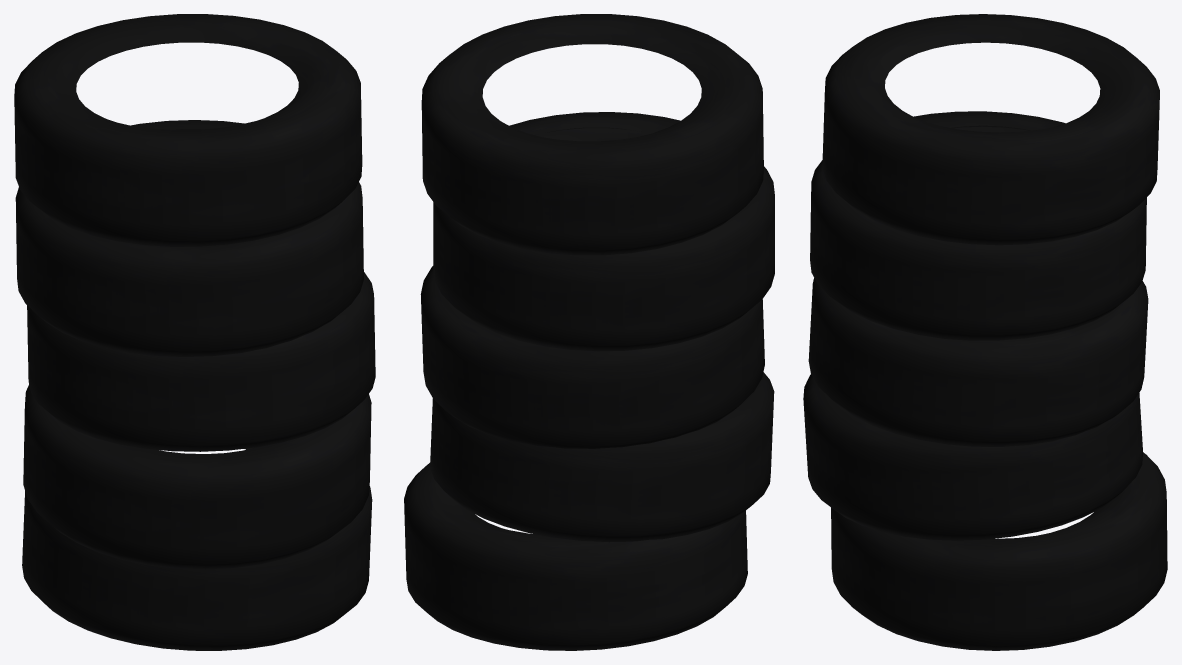
File: tirePile_L1.glb
The picture shows the model from 3 angles, left to right: view 1: azimuth 30°, elevation 25°; view 2: azimuth 150°, elevation 25°; view 3: azimuth 270°, elevation 25°; orthographic projection. The views are drawn at different scales.
Parts seen in each view (by area): view 1: tire4, tire1, tire3, tire2, tire0; view 2: tire4, tire0, tire3, tire2, tire1; view 3: tire4, tire0, tire2, tire3, tire1.
Part boxes in pixels (box(x1,y1,x2,y2)): tire4: box(14, 14, 362, 246); tire1: box(23, 384, 371, 569); tire3: box(15, 120, 363, 356); tire2: box(27, 272, 375, 451); tire0: box(22, 447, 372, 650); tire4: box(421, 14, 763, 255); tire0: box(404, 462, 747, 650); tire3: box(433, 112, 774, 351); tire2: box(420, 266, 764, 448); tire1: box(430, 372, 774, 542); tire4: box(822, 14, 1159, 245); tire0: box(831, 452, 1167, 650); tire2: box(808, 278, 1148, 446); tire3: box(810, 111, 1146, 340); tire1: box(803, 374, 1142, 540).
Bounding box in the file's own units: 0.6729 × 1.05 × 0.685.
Materials: 1 (1 with a texture image).
